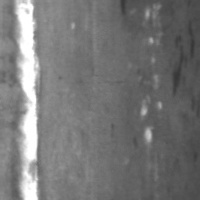inclusion: (169, 14, 199, 108)
scratches: (9, 2, 44, 200), (137, 6, 165, 142)
